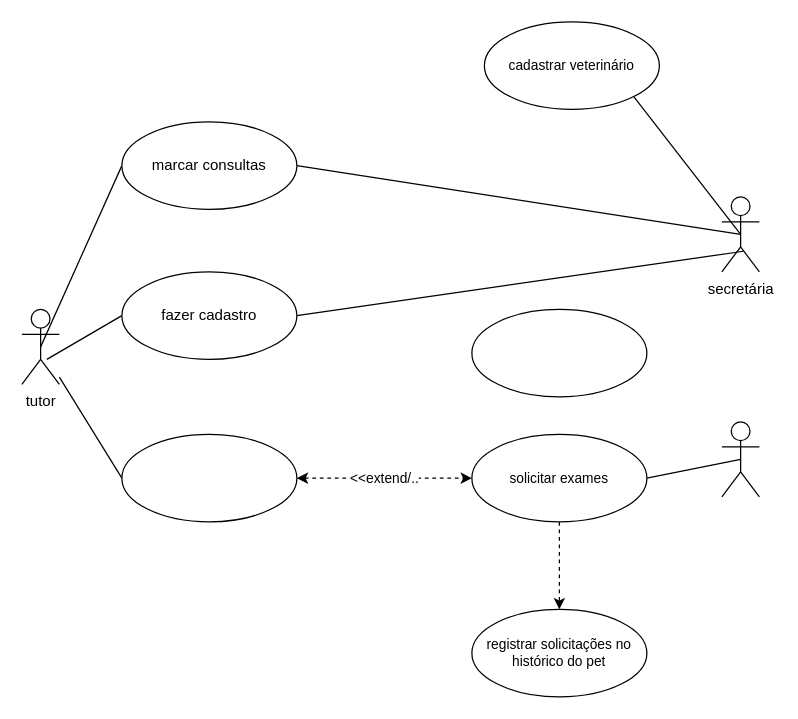
This 798x719 diagram has some shape labels left out. Here are the shapes that lost their labels. From the top down, the centre of each, then its label:
point (559, 352): manter cadastros atualizados
point (209, 477): informar os sintomas
point (740, 459): veterinario
